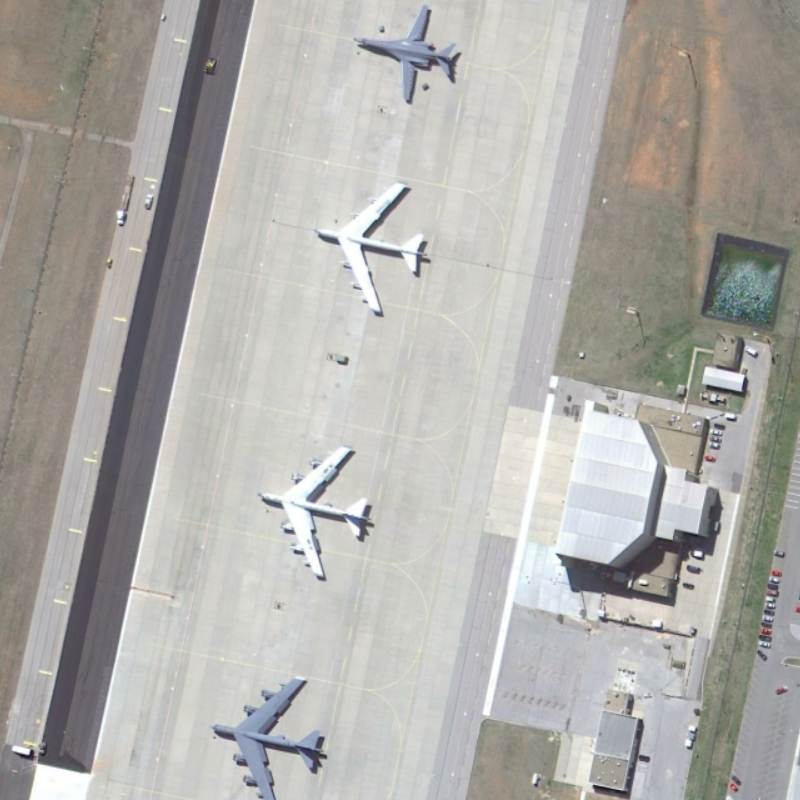A10: (344, 3, 468, 105)
A8: (250, 439, 387, 584), (308, 175, 435, 319), (209, 671, 334, 800)
